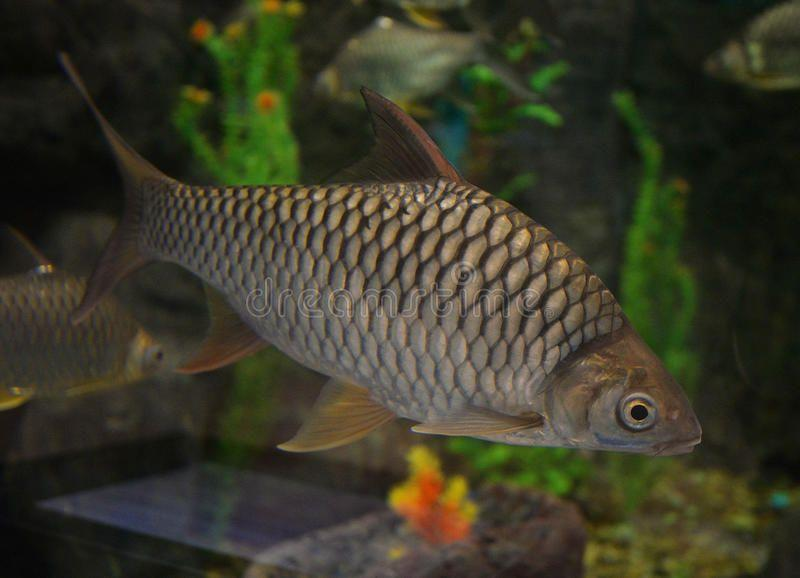Silver Barb: (53, 41, 703, 467)
